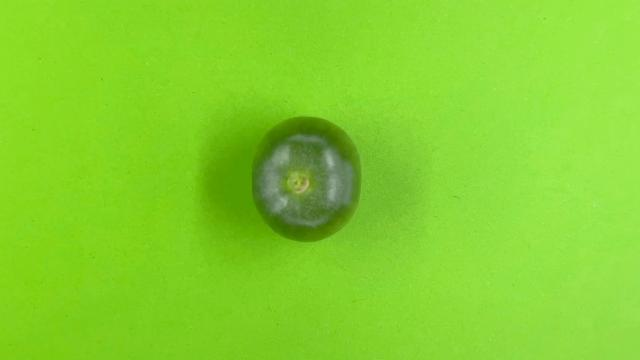Fruit Maturation: (248, 115, 364, 245)
